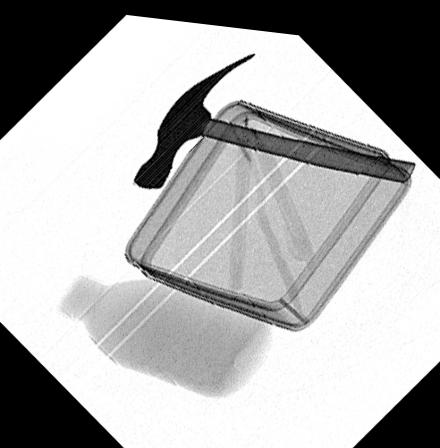Hammer: (134, 47, 417, 186)
